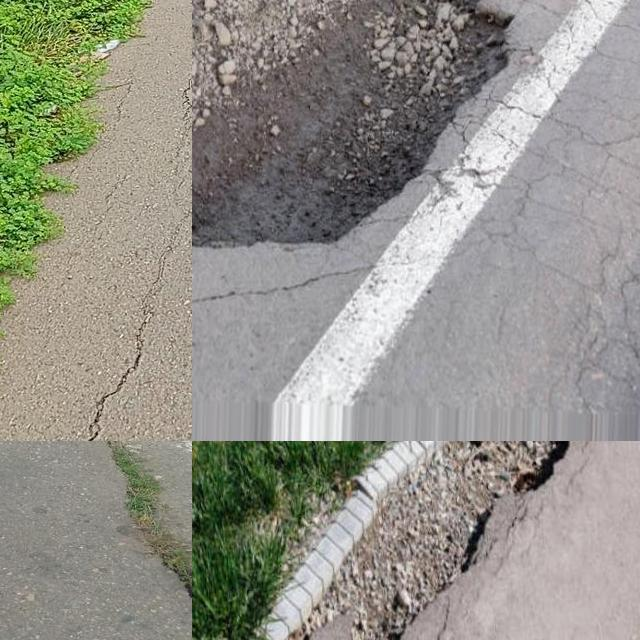Memanjang: (66, 309, 171, 441)
Pinggir: (192, 0, 512, 249), (213, 441, 578, 640)
